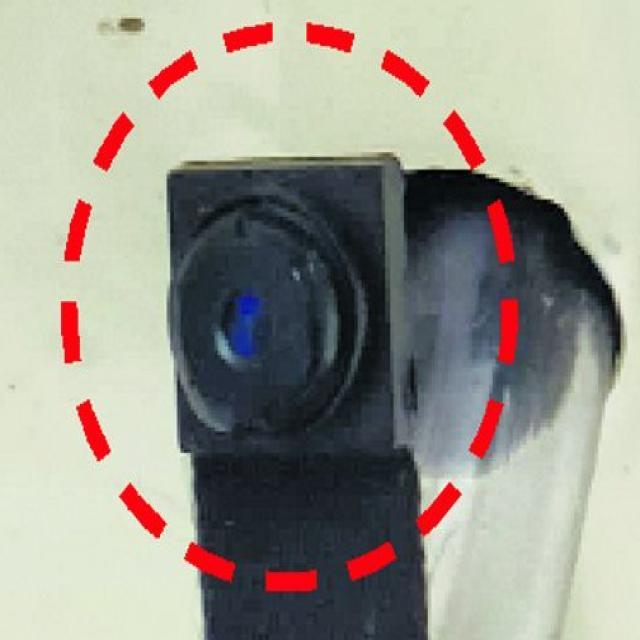hidden camera: (210, 280, 281, 367)
